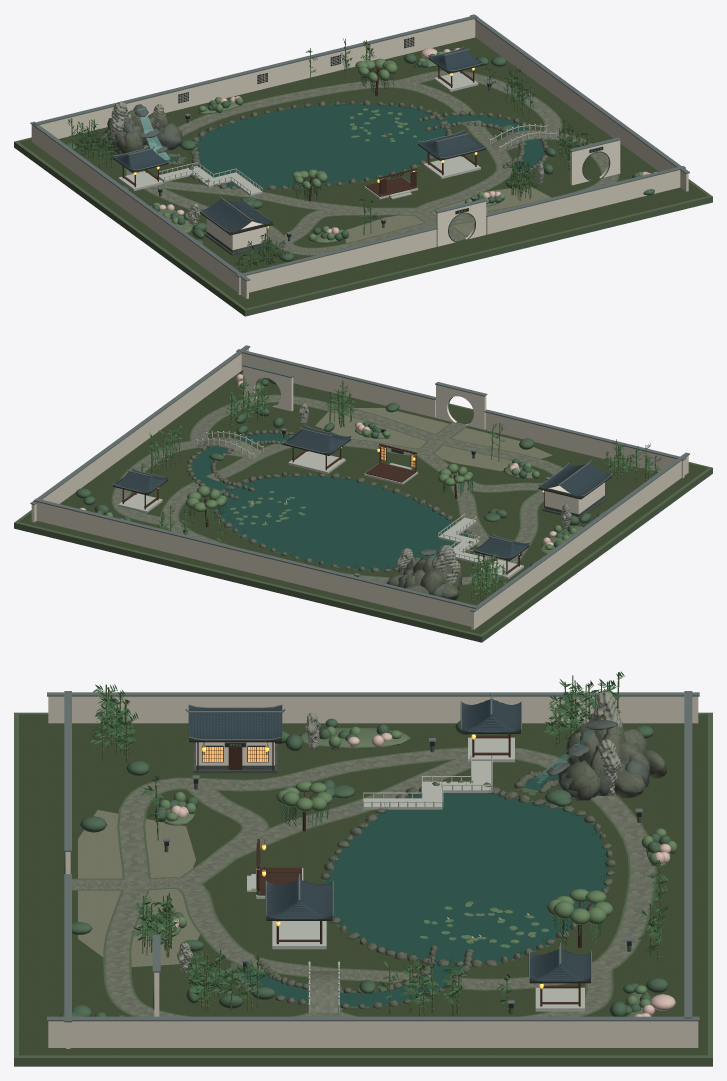
File: yueyun-zhuiyu-garden.glb
The picture shows the model from 3 angles, top to bottom: view 1: azimuth 30°, elevation 25°; view 2: azimuth 150°, elevation 25°; view 3: azimuth 270°, elevation 25°; orthographic projection. The views are drawn at different scales.
Parts seen in each view (by area): view 1: Courtyard stone, Limewash · warm ivory (×5), Jade water (×2), Warm worn flagstones (×6), Garden earth (×2), Glazed ridge caps (×5), Blue-grey roof tiles (×4), Limewash · chalk (×3), Pale granite coping (×4), Pebble mosaic courtyard, Oiled chestnut, Sculpted porous Taihu limestone; view 2: Courtyard stone, Limewash · warm ivory (×5), Jade water (×2), Warm worn flagstones (×6), Garden earth (×3), Glazed ridge caps (×5), Pebble mosaic courtyard, Blue-grey roof tiles (×4), Limewash · chalk (×3), Pale granite coping (×3), Sculpted porous Taihu limestone, Oiled chestnut; view 3: Courtyard stone, Jade water (×2), Limewash · warm ivory (×2), Warm worn flagstones (×6), Garden earth (×4), Glazed ridge caps (×5), Blue-grey roof tiles (×4), Pebble mosaic courtyard, Pale granite coping (×4), Weathered Taihu limestone (×2), Sculpted porous Taihu limestone (×2), Moss on limestone (+2 smaller).
Boxes of the visible parts, left/top/right/bottom form: Courtyard stone: left=18, top=37, right=707, bottom=308; Limewash · warm ivory (×5): left=31, top=19, right=688, bottom=298; Jade water (×2): left=195, top=103, right=543, bottom=188; Warm worn flagstones (×6): left=127, top=71, right=617, bottom=254; Garden earth (×2): left=14, top=79, right=712, bottom=316; Glazed ridge caps (×5): left=30, top=14, right=689, bottom=281; Blue-grey roof tiles (×4): left=113, top=47, right=484, bottom=232; Limewash · chalk (×3): left=206, top=140, right=620, bottom=249; Pale granite coping (×4): left=118, top=71, right=480, bottom=195; Pebble mosaic courtyard: left=345, top=186, right=551, bottom=242; Oiled chestnut: left=365, top=177, right=416, bottom=196; Sculpted porous Taihu limestone: left=110, top=101, right=131, bottom=139; Courtyard stone: left=19, top=371, right=707, bottom=634; Limewash · warm ivory (×5): left=31, top=348, right=688, bottom=629; Jade water (×2): left=190, top=433, right=467, bottom=570; Warm worn flagstones (×6): left=113, top=395, right=562, bottom=584; Garden earth (×3): left=14, top=394, right=712, bottom=642; Glazed ridge caps (×5): left=30, top=345, right=689, bottom=612; Pebble mosaic courtyard: left=315, top=408, right=552, bottom=471; Blue-grey roof tiles (×4): left=114, top=425, right=610, bottom=557; Limewash · chalk (×3): left=243, top=366, right=604, bottom=514; Pale granite coping (×3): left=118, top=451, right=488, bottom=563; Sculpted porous Taihu limestone: left=431, top=544, right=460, bottom=583; Oiled chestnut: left=365, top=463, right=416, bottom=482; Courtyard stone: left=19, top=714, right=707, bottom=1055; Jade water (×2): left=235, top=792, right=608, bottom=1006; Limewash · warm ivory (×2): left=48, top=696, right=698, bottom=1047; Warm worn flagstones (×6): left=72, top=748, right=654, bottom=1016; Garden earth (×4): left=14, top=712, right=712, bottom=1066; Glazed ridge caps (×5): left=47, top=691, right=699, bottom=1022; Blue-grey roof tiles (×4): left=188, top=699, right=590, bottom=981; Pebble mosaic courtyard: left=78, top=810, right=199, bottom=966; Pale granite coping (×4): left=272, top=737, right=584, bottom=1011; Weathered Taihu limestone (×2): left=563, top=761, right=645, bottom=800; Sculpted porous Taihu limestone (×2): left=590, top=691, right=622, bottom=795; Moss on limestone: left=299, top=728, right=412, bottom=748.
Size of the model in its own units: 83 by 9.23 by 71.
37 materials, 13 textured.
